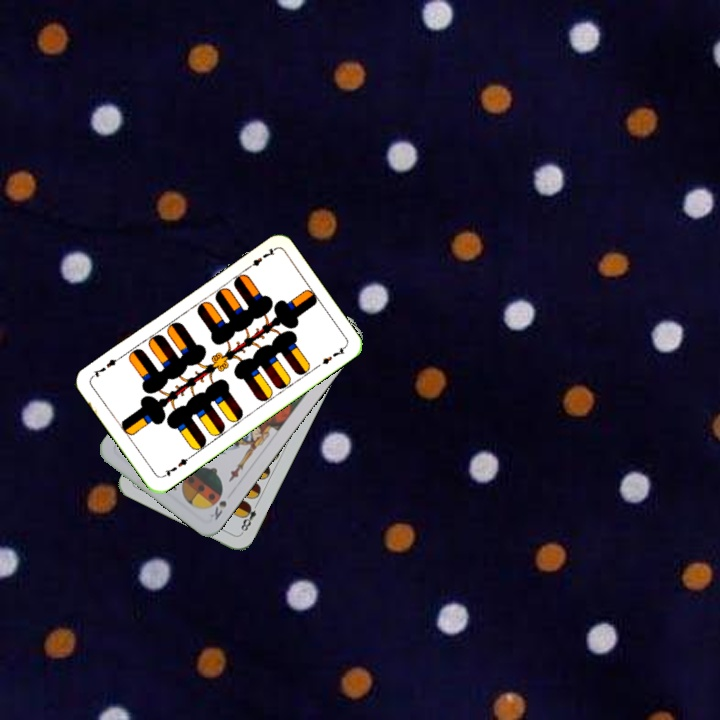E7: (158, 452, 194, 480), (242, 244, 278, 272)
E8: (237, 498, 261, 536)
SK: (206, 496, 229, 523)
